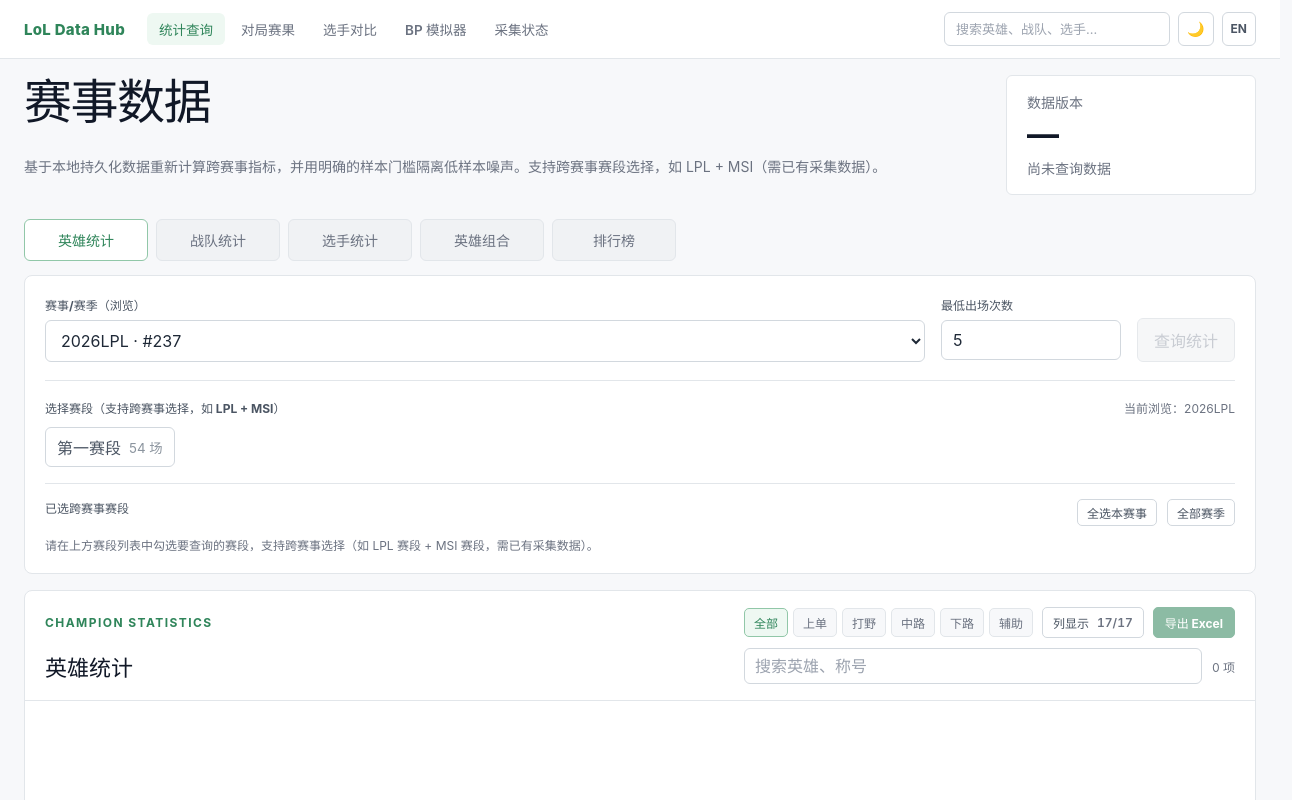
Scenario: 查询状态 › 对统计结果分页并支持调整每页条数
The width and height of the screenshot is (1292, 800).
Click the button with class "stage-chip".
click(110, 447)  # box top-left (45, 427), bottom-right (175, 467)
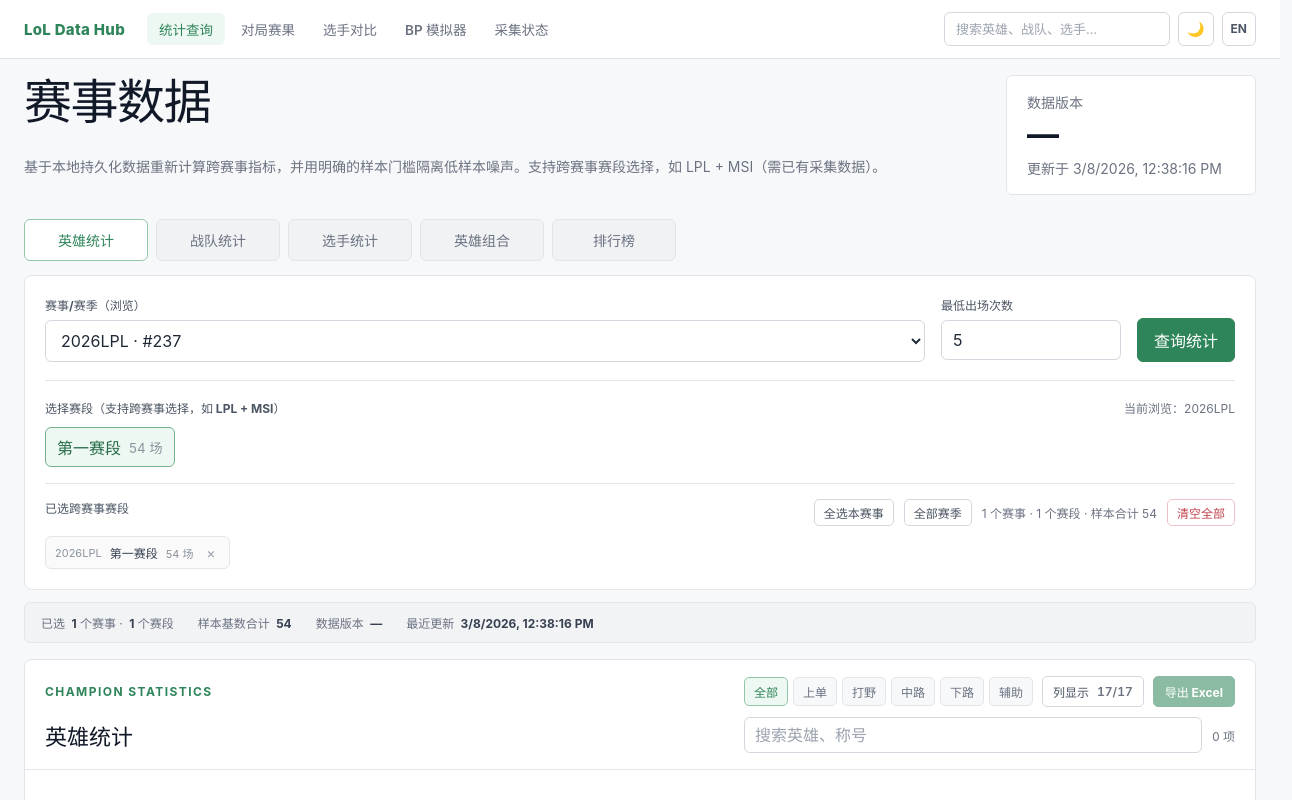
Click the button "查询统计".
click(1186, 340)  # box top-left (1137, 318), bottom-right (1235, 362)
(page scrolled)
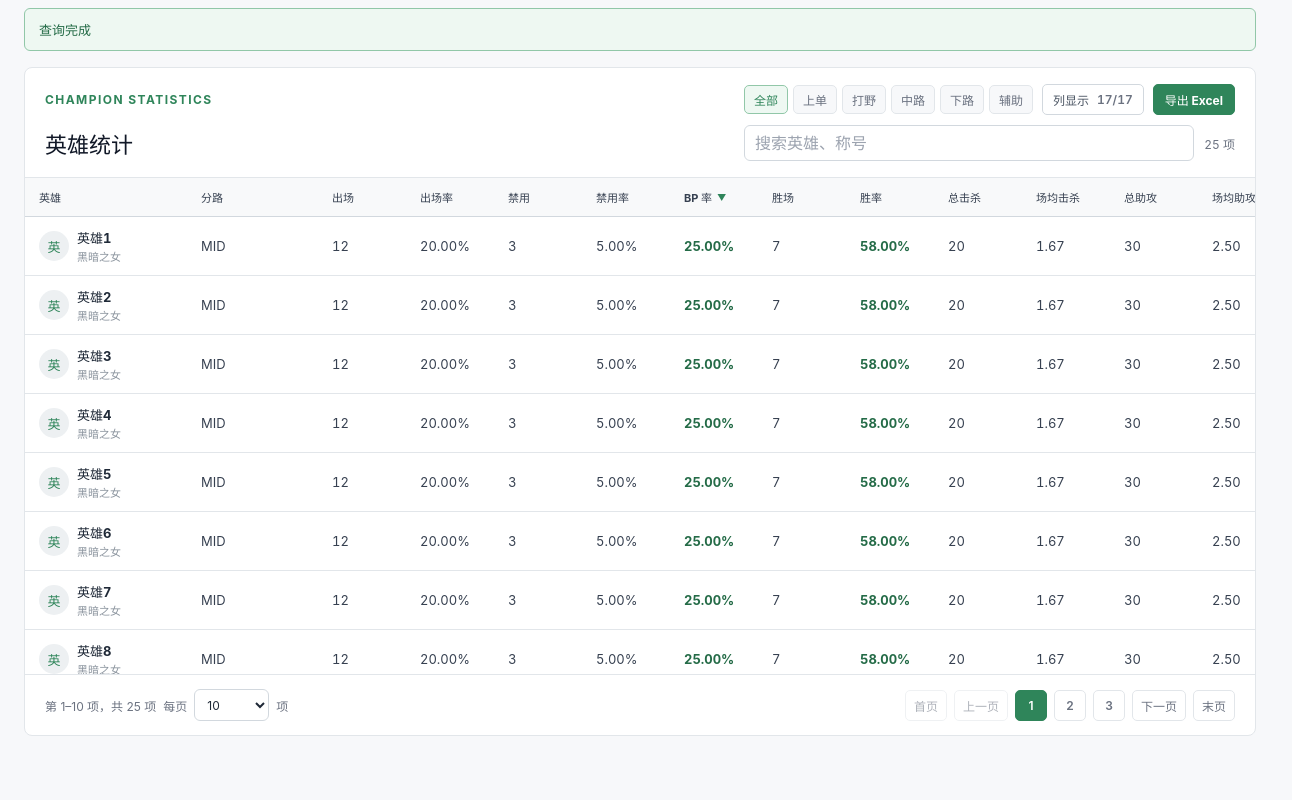
Now the text "第 1–10 项，共 25 项" is shown, box top-left (45, 697), bottom-right (156, 714)
Click the button "下一页".
click(1159, 705)  # box top-left (1132, 690), bottom-right (1186, 721)
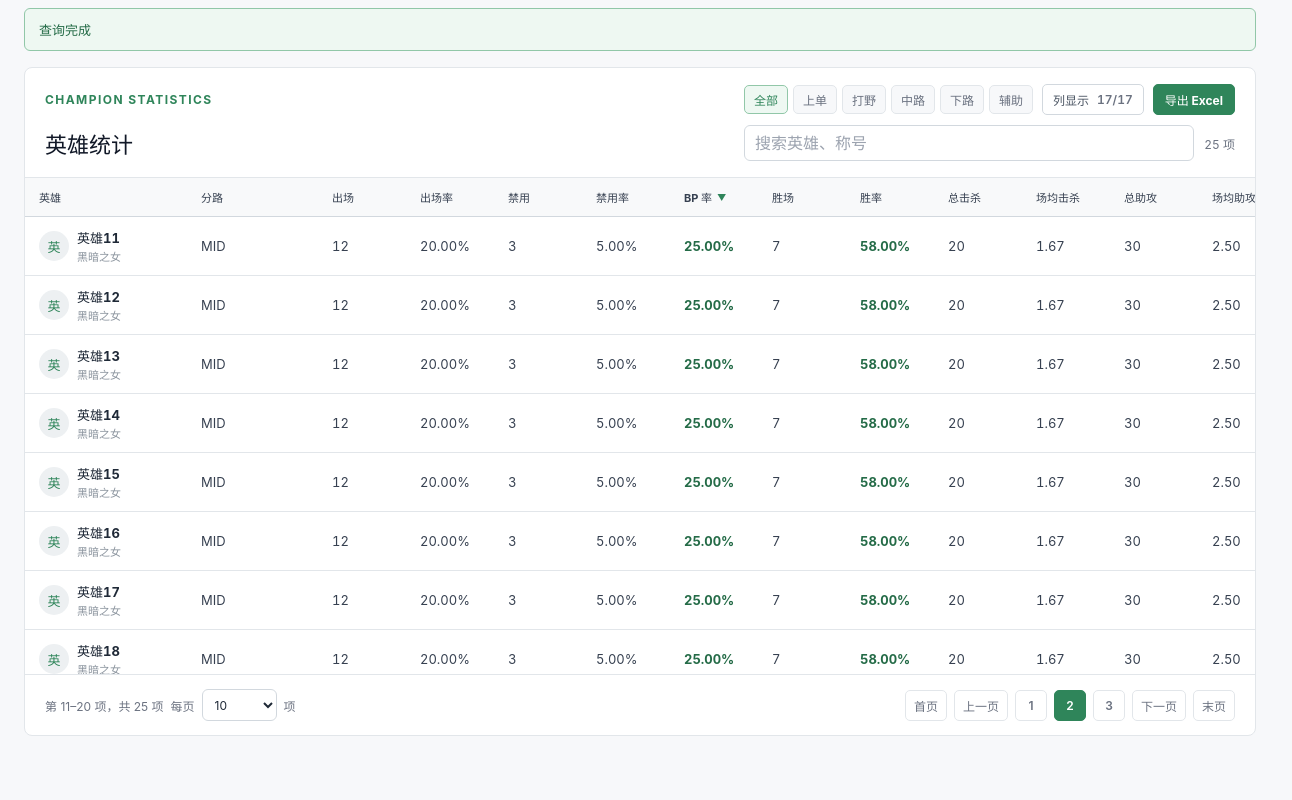
Now the text "第 11–20 项，共 25 项" is shown, box top-left (45, 697), bottom-right (164, 714)
Click the button named "第 3 页".
click(1109, 705)  # box top-left (1093, 690), bottom-right (1125, 721)
(page scrolled)
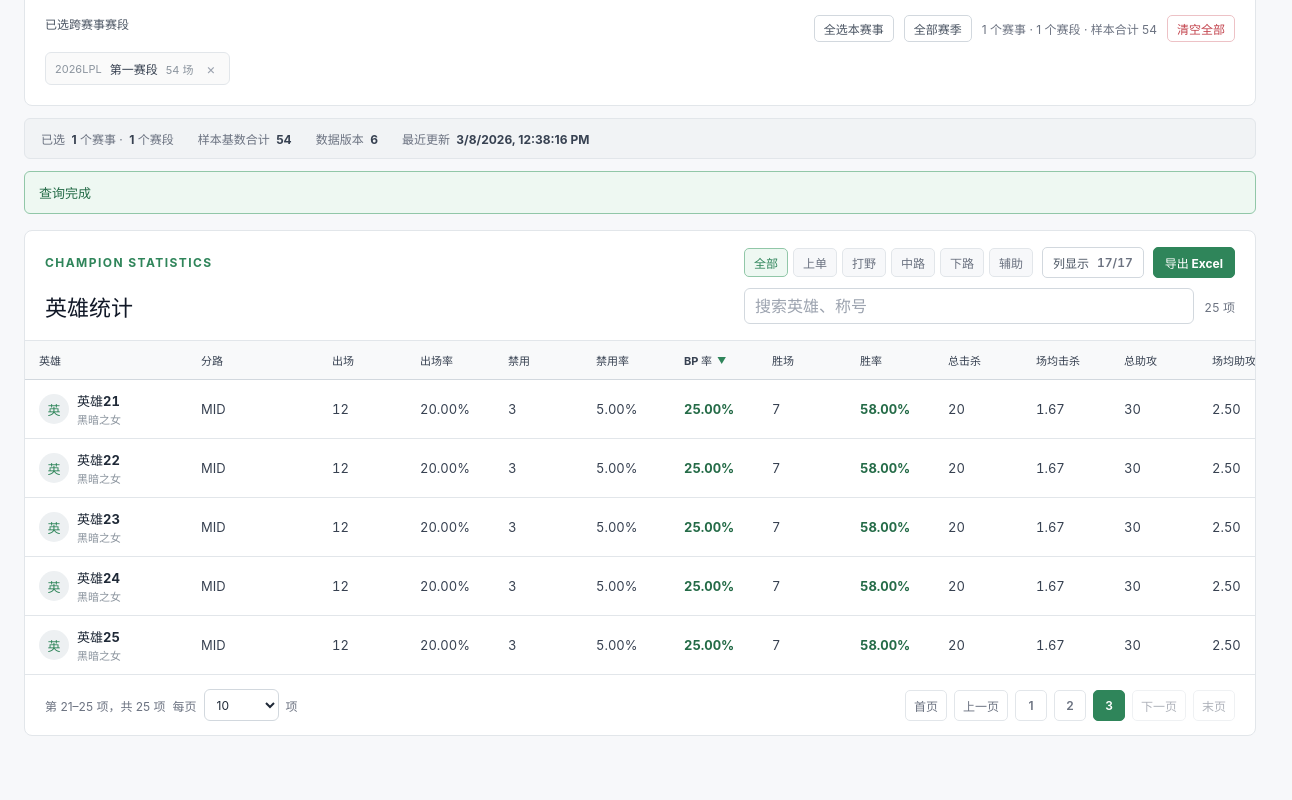
Now the text "第 21–25 项，共 25 项" is shown, box top-left (45, 697), bottom-right (166, 714)
Now the text "英雄25" is shown, box top-left (77, 627), bottom-right (121, 646)
Select "50" in the dropdown labelled "每页 项" at (241, 705), box top-left (204, 689), bottom-right (279, 721)
(page scrolled)
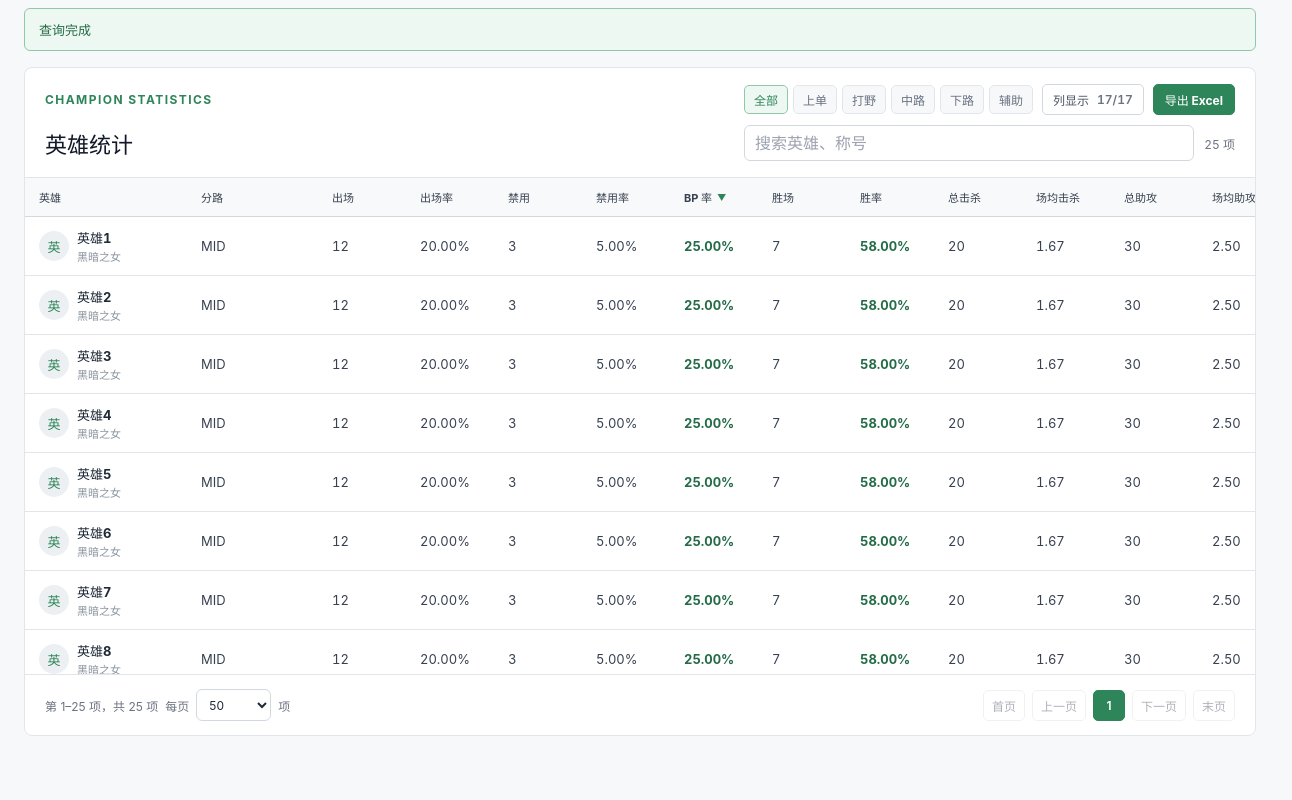
Now the text "第 1–25 项，共 25 项" is shown, box top-left (45, 697), bottom-right (158, 714)
